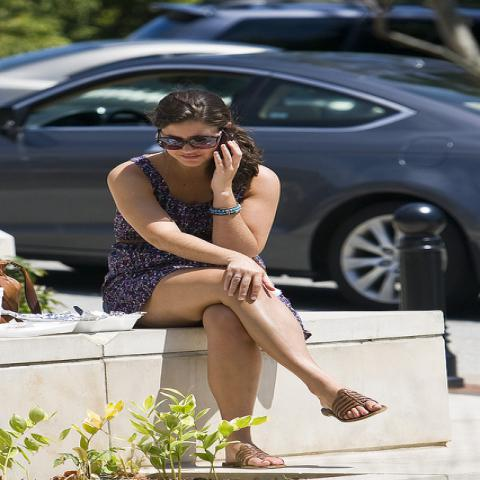car: (3, 47, 476, 315), (74, 0, 479, 60), (0, 37, 289, 114)
